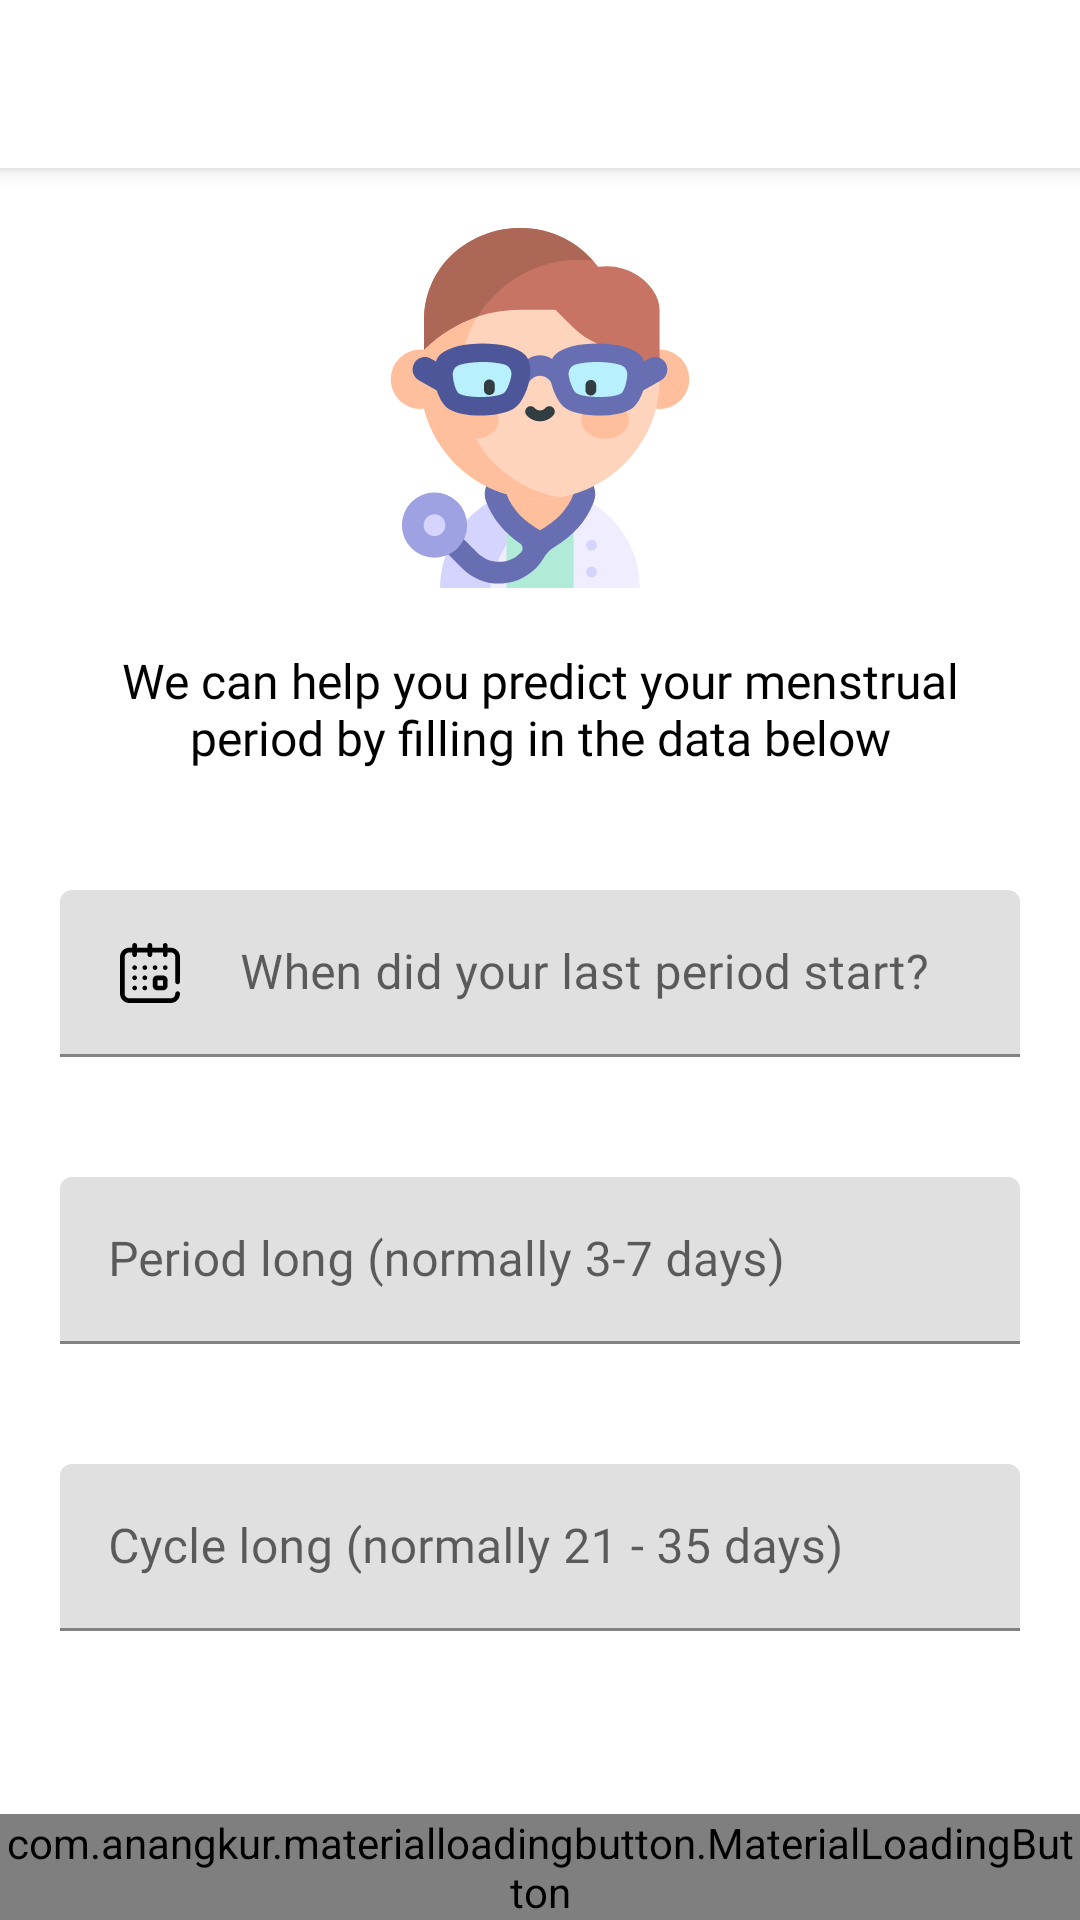

Icons on this 1080*1920 Android screen, each with the point to tap as (x,y):
calendar: (150,973)
doctor: (540,408)
